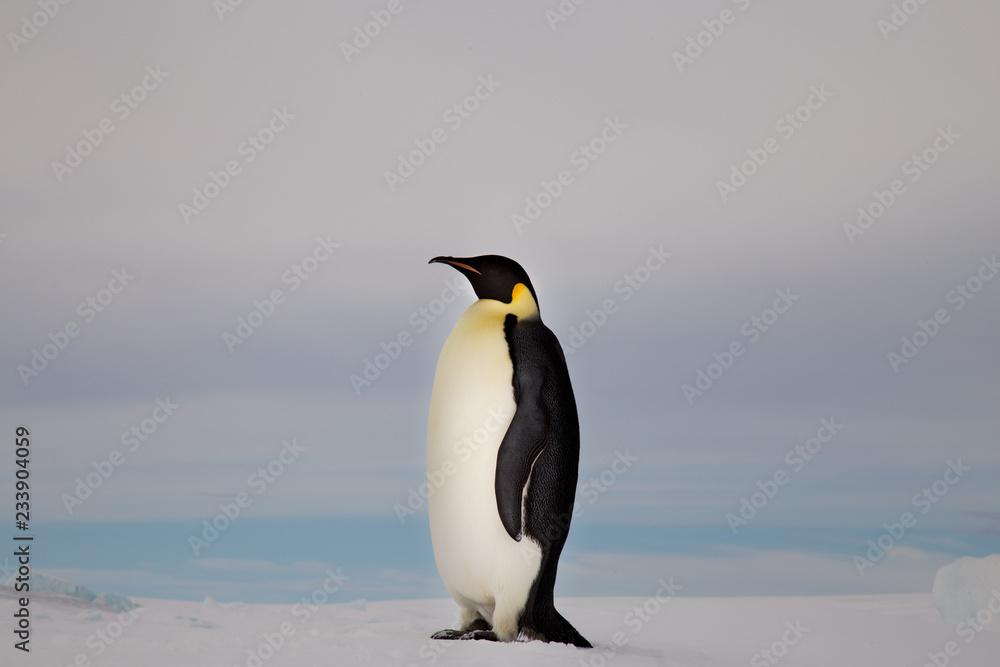emporer: (368, 219, 638, 662)
